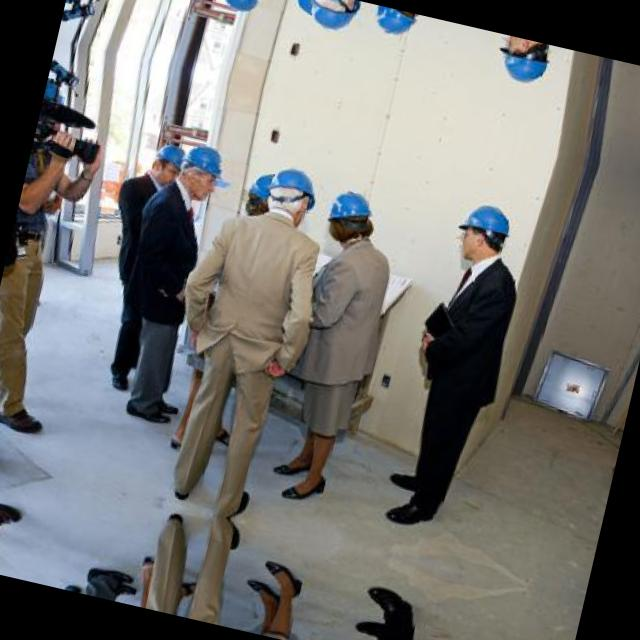helmet: (448, 196, 512, 271), (264, 162, 320, 228), (322, 186, 378, 250), (489, 33, 551, 90), (175, 138, 228, 204), (242, 166, 284, 223), (146, 137, 191, 190), (307, 0, 360, 38), (369, 4, 420, 42), (217, 0, 268, 18), (287, 0, 326, 21)
